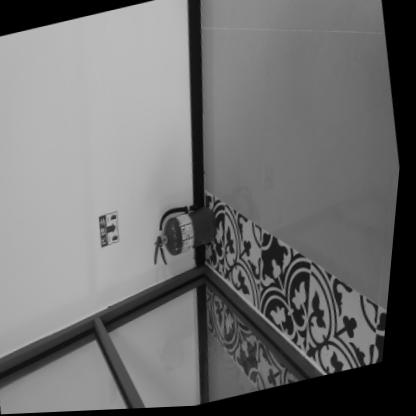FE: (147, 199, 227, 269)
